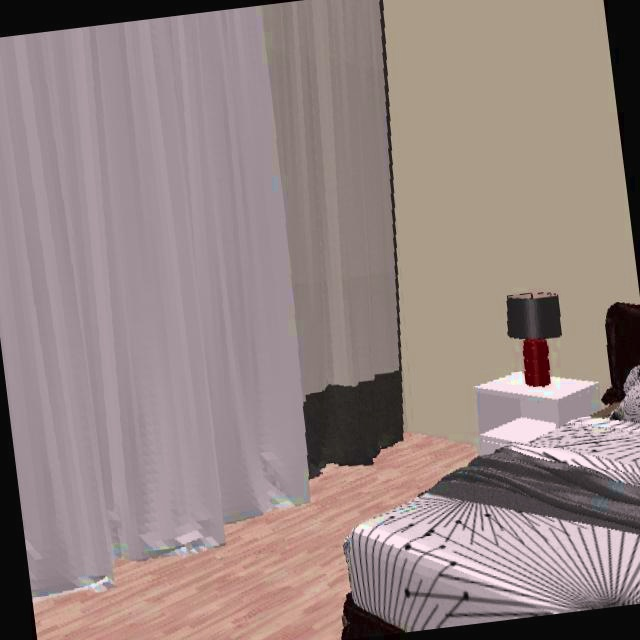bed: (340, 302, 640, 639)
lamp: (507, 294, 566, 388)
nighttable: (474, 372, 605, 454)
